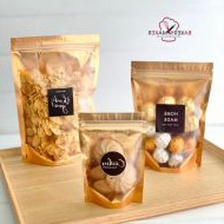snack: (6, 26, 108, 173), (125, 55, 218, 177), (73, 107, 152, 211)
